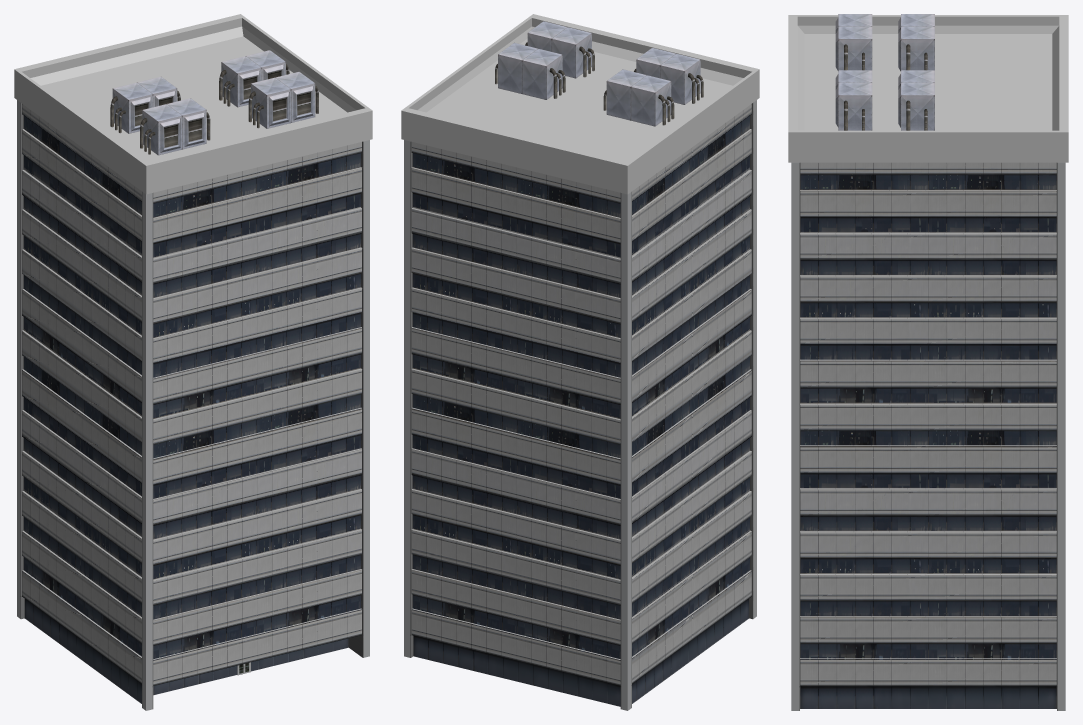
The model's file is Building_02.FBX.
The picture shows the model from 3 angles, left to right: view 1: azimuth 30°, elevation 25°; view 2: azimuth 150°, elevation 25°; view 3: azimuth 270°, elevation 25°; orthographic projection. The views are drawn at different scales.
Parts seen in each view (by area): view 1: Box108; view 2: Box108; view 3: Box108.
Boxes of the visible parts, box(x1,y1,x2,y2) form: Box108: box(14, 14, 372, 710); Box108: box(401, 14, 759, 710); Box108: box(788, 14, 1068, 710).
Bounding box in the file's own units: 41.49 × 98.84 × 41.87.
